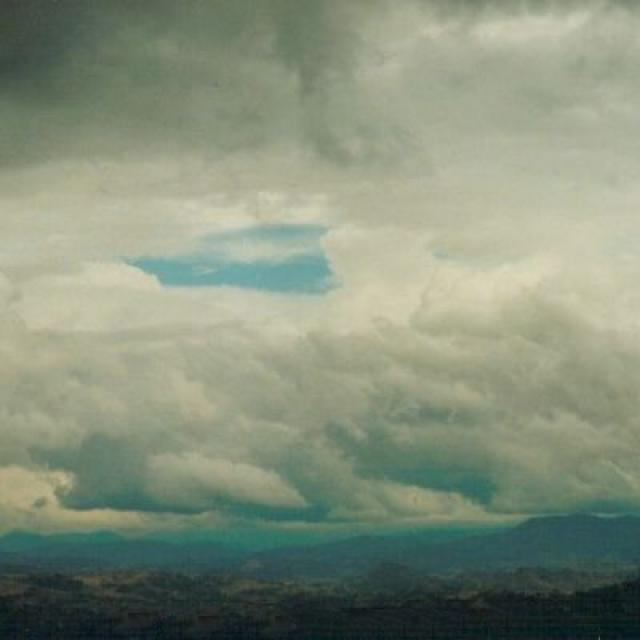Sc: (4, 66, 640, 530)
